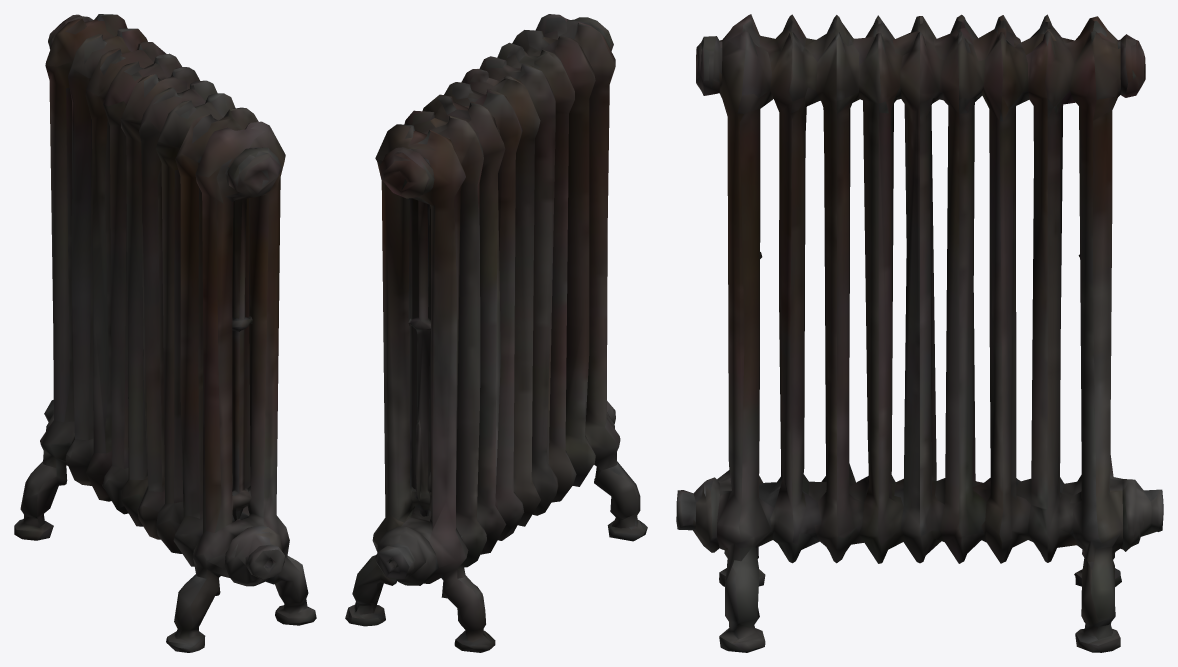
The model's file is ornate-iron-radiator-v002.glb.
3 views of the same model, side by side, from view 1: azimuth 30°, elevation 25°; view 2: azimuth 150°, elevation 25°; view 3: azimuth 270°, elevation 25° (orthographic). The views are drawn at different scales.
Visible parts, largest first — view 1: ornate-iron-radiator; view 2: ornate-iron-radiator; view 3: ornate-iron-radiator.
Part boxes in pixels (bbox=[...]): ornate-iron-radiator: bbox=[14, 14, 316, 652]; ornate-iron-radiator: bbox=[345, 14, 647, 652]; ornate-iron-radiator: bbox=[676, 14, 1163, 652].
Bounding box in the file's own units: 0.2052 × 0.6795 × 0.51.
Materials: 1 (1 with a texture image).
